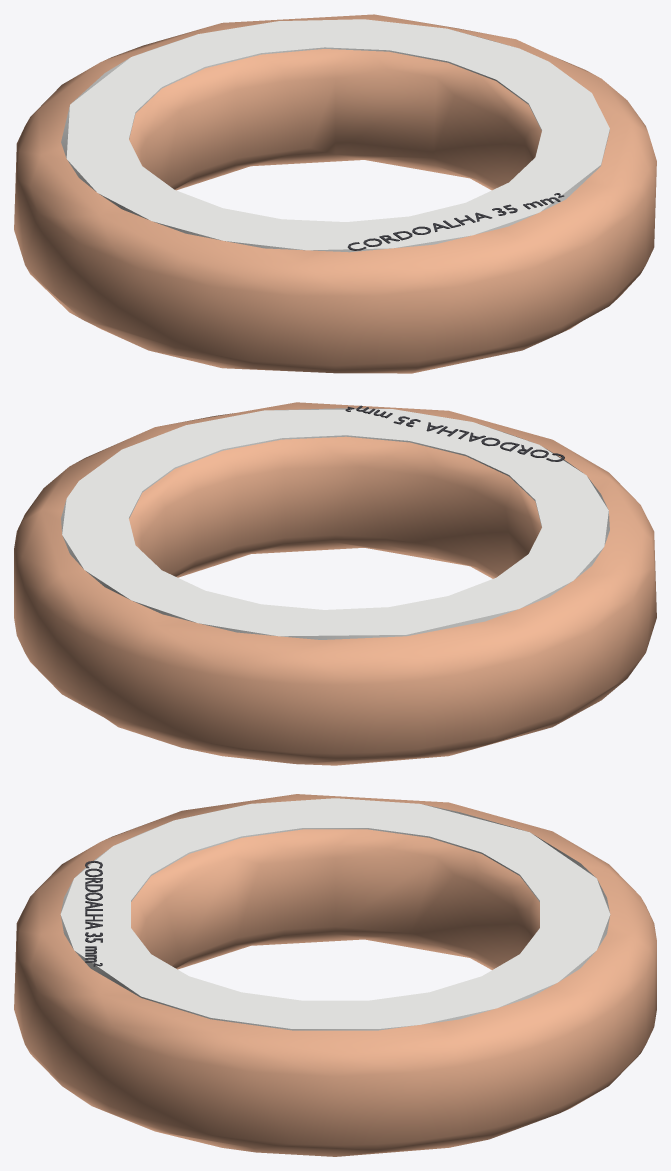
The model's file is ELE-SPD-003_lod1.glb.
3 renders of one model, top to bottom at view 1: azimuth 30°, elevation 25°; view 2: azimuth 150°, elevation 25°; view 3: azimuth 270°, elevation 25°, orthographic.
Parts seen in each view (by area): view 1: ELE-SPD-003_rolo, ELE-SPD-003_etiqueta, ELE-SPD-003_texto; view 2: ELE-SPD-003_rolo, ELE-SPD-003_etiqueta, ELE-SPD-003_texto; view 3: ELE-SPD-003_rolo, ELE-SPD-003_etiqueta, ELE-SPD-003_texto.
Part boxes in pixels (x1,y1,x2,y2): ELE-SPD-003_rolo: (14, 14, 656, 373); ELE-SPD-003_etiqueta: (61, 19, 609, 252); ELE-SPD-003_texto: (347, 193, 564, 250); ELE-SPD-003_rolo: (14, 402, 656, 765); ELE-SPD-003_etiqueta: (61, 408, 609, 639); ELE-SPD-003_texto: (345, 405, 564, 461); ELE-SPD-003_rolo: (14, 794, 656, 1156); ELE-SPD-003_etiqueta: (60, 798, 610, 1030); ELE-SPD-003_texto: (85, 860, 102, 966).
Bounding box in the file's own units: 0.3977 × 0.0811 × 0.3977.
